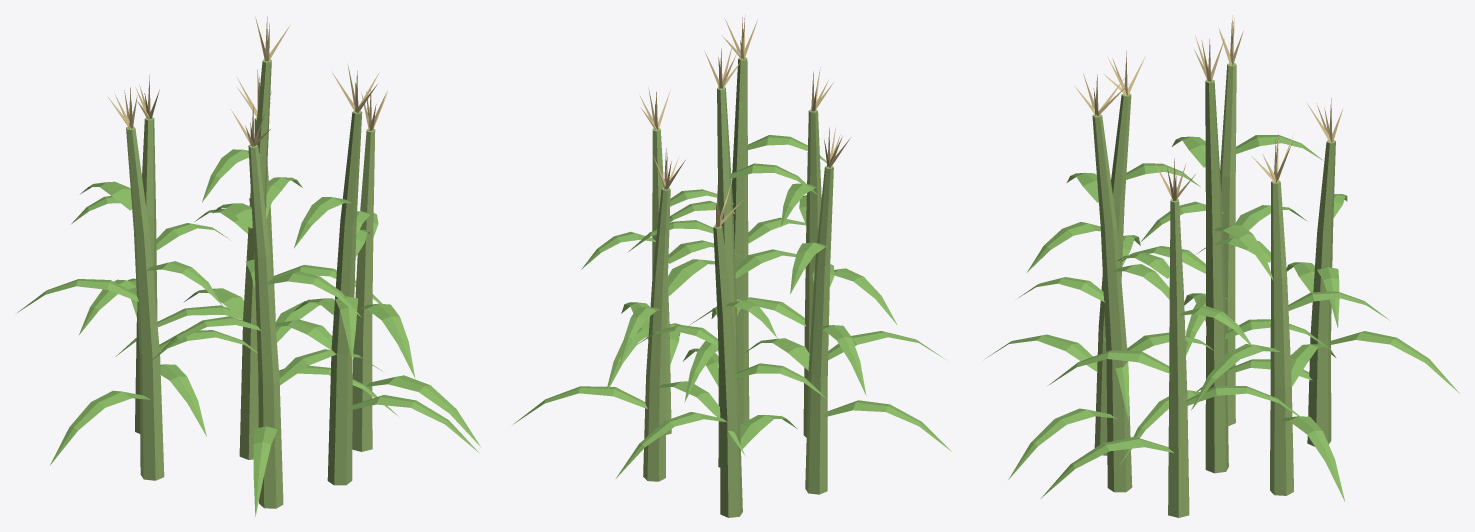
File: cornField_picked.glb
The picture shows the model from 3 angles, left to right: view 1: azimuth 30°, elevation 25°; view 2: azimuth 150°, elevation 25°; view 3: azimuth 270°, elevation 25°; orthographic projection. The views are drawn at different scales.
Parts seen in each view (by area): view 1: CornField_Picked; view 2: CornField_Picked; view 3: CornField_Picked.
Part boxes in pixels (bbox=[...]): CornField_Picked: bbox=[17, 16, 480, 516]; CornField_Picked: bbox=[513, 14, 951, 517]; CornField_Picked: bbox=[985, 15, 1459, 517].
Bounding box in the file's own units: 2.73 × 2.95 × 2.93.
